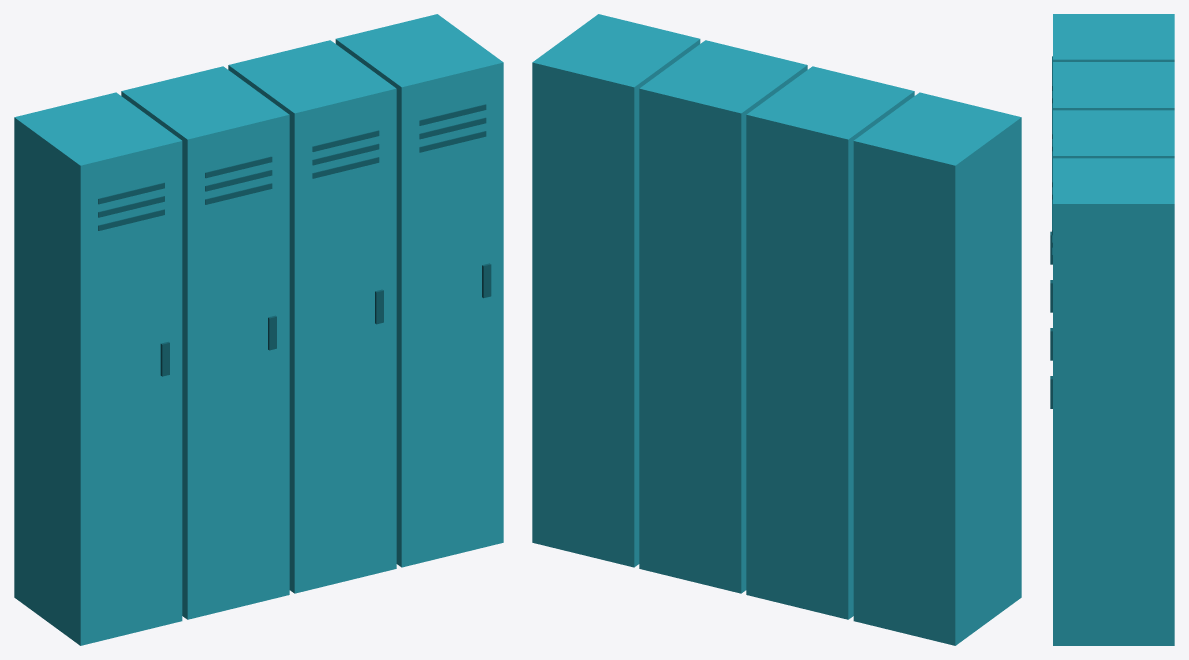
File: lockers.glb
The picture shows the model from 3 angles, left to right: view 1: azimuth 30°, elevation 25°; view 2: azimuth 150°, elevation 25°; view 3: azimuth 270°, elevation 25°; orthographic projection. The views are drawn at different scales.
Visible parts, largest first — view 1: lockers; view 2: lockers; view 3: lockers.
Boxes of the visible parts, x1=… form: lockers: x1=14, y1=14, x2=503, y2=645; lockers: x1=532, y1=14, x2=1021, y2=645; lockers: x1=1050, y1=14, x2=1174, y2=645.
Bounding box in the file's own units: 1.66 × 1.8 × 0.46.
